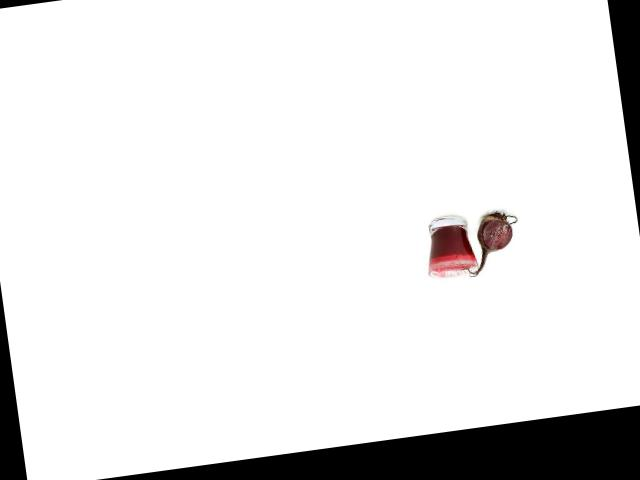beet: (453, 208, 523, 278)
